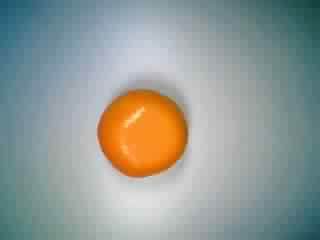orange: (90, 84, 191, 181)
